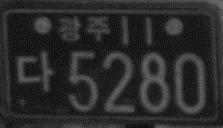0: (173, 50, 207, 116)
1: (142, 14, 155, 48), (119, 15, 132, 46)
2: (102, 50, 136, 116)
5: (68, 48, 98, 113)
8: (136, 50, 170, 114)
광주_O: (56, 14, 110, 42)
다: (16, 48, 55, 91)
